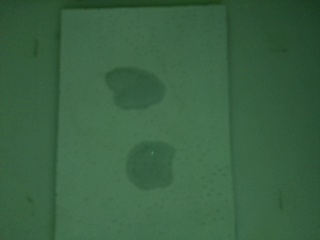Water_detected: (108, 73, 161, 111), (125, 152, 167, 191)
